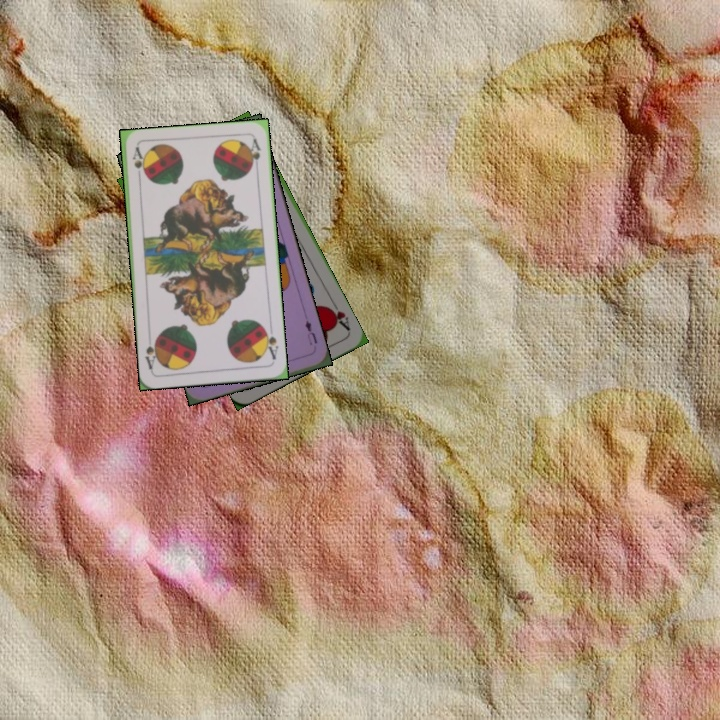EU: (301, 316, 320, 348)
HA: (323, 297, 352, 333)
SA: (260, 323, 281, 362), (128, 144, 146, 184)
